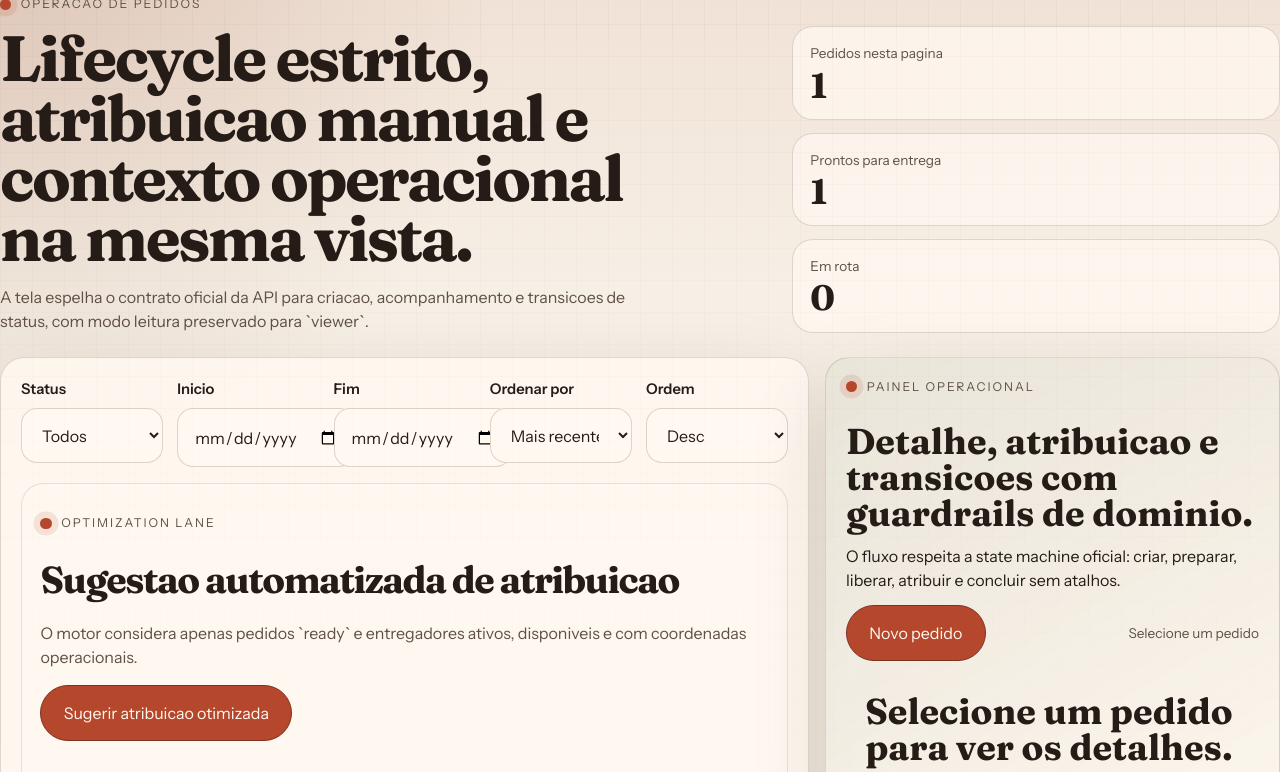
OrdersPage › loads optimized suggestions and applies the selected assignment flow
This screenshot has width=1280, height=772.
Click the button "Sugerir atribuicao otimizada" at (166, 713), box [40,685,292,741]
(page scrolled)
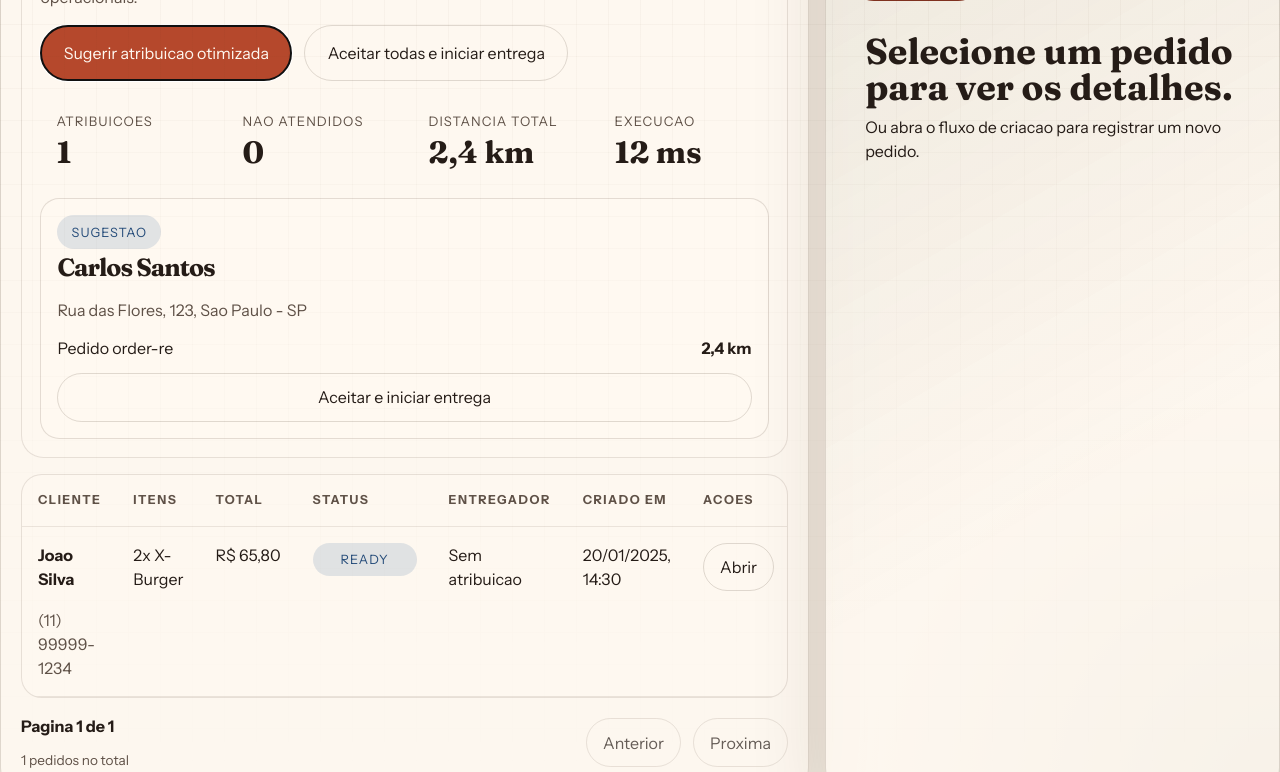
Check: the heading "Carlos Santos" is shown, box [57,252,215,282]
Click the button "Aceitar e iniciar entrega" at (404, 398), box [57,373,752,422]
(page scrolled)
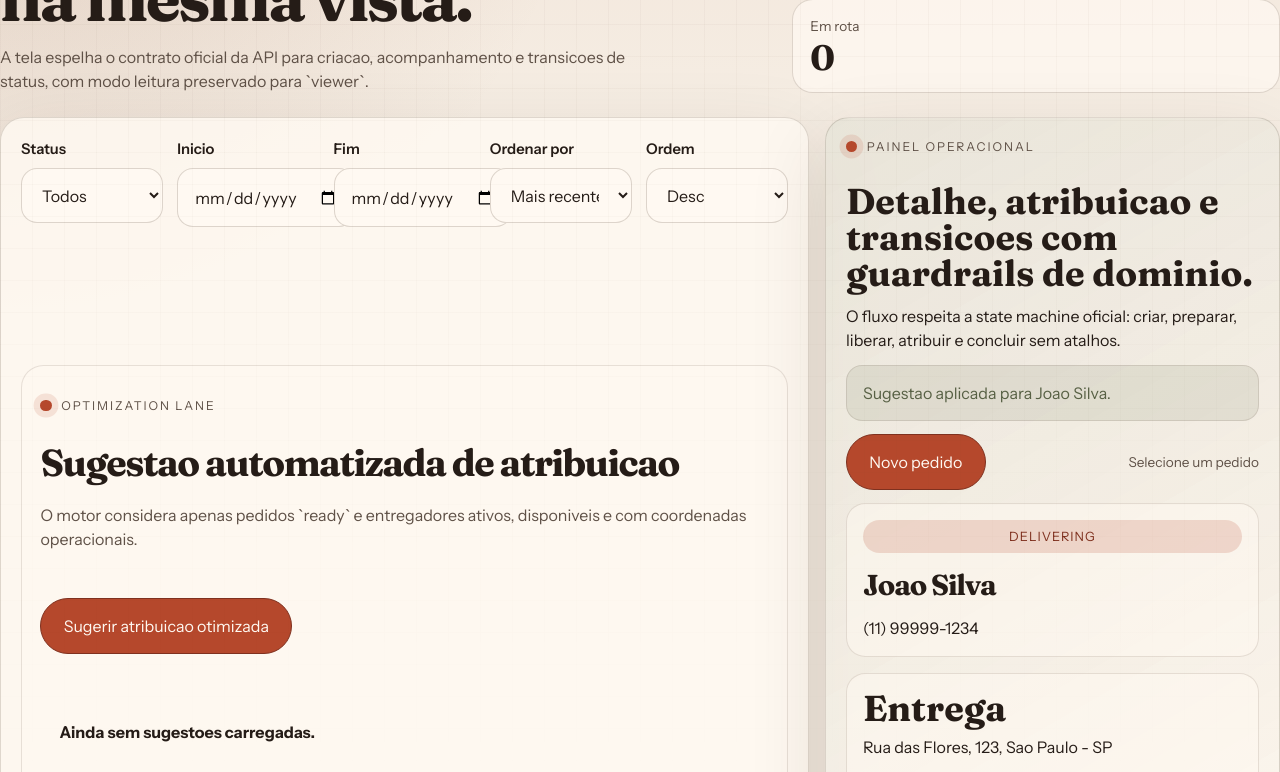
Check: the text "Sugestao aplicada para Joao Silva." is shown, box [846,365,1259,421]
